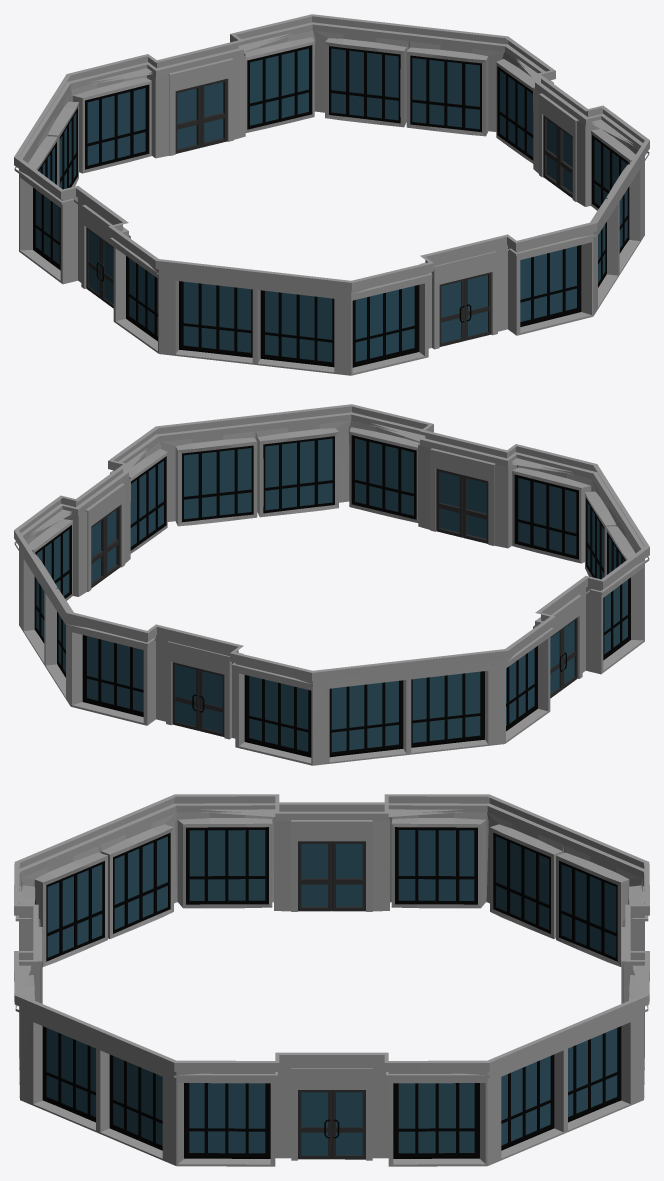
File: Apt2_Base.fbx
The picture shows the model from 3 angles, top to bottom: view 1: azimuth 30°, elevation 25°; view 2: azimuth 150°, elevation 25°; view 3: azimuth 270°, elevation 25°; orthographic projection. The views are drawn at different scales.
Parts seen in each view (by area): view 1: Main, Windows, Frame, Doors; view 2: Main, Windows, Frame, Doors; view 3: Main, Windows, Frame, Doors.
Part boxes in pixels (x1,y1,x2,y2): Main: [14, 14, 649, 375]; Windows: [36, 48, 627, 362]; Frame: [33, 45, 629, 367]; Doors: [86, 78, 572, 346]; Main: [14, 404, 649, 765]; Windows: [36, 438, 627, 752]; Frame: [34, 435, 630, 757]; Doors: [91, 468, 577, 736]; Main: [14, 794, 649, 1166]; Windows: [46, 830, 617, 1155]; Frame: [35, 827, 628, 1158]; Doors: [298, 841, 365, 1159].
Size of the model in its own units: 1877 by 345 by 1877.
